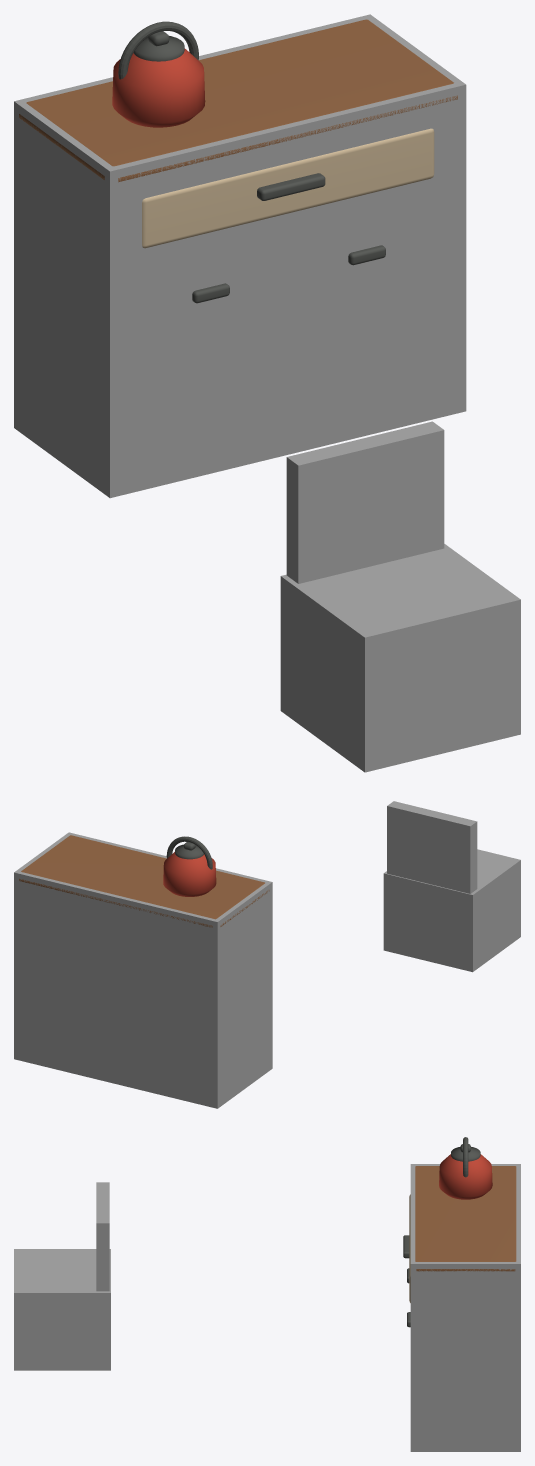
The model's file is paired-kitchen.glb.
The picture shows the model from 3 angles, top to bottom: view 1: azimuth 30°, elevation 25°; view 2: azimuth 150°, elevation 25°; view 3: azimuth 270°, elevation 25°; orthographic projection. The views are drawn at different scales.
Visible parts, largest first — view 1: COL_cupboard, COL_child_chair, Warm oak, COL_chair_back, Faded cream paint, Red enamel and repair paint, Dull cast iron; view 2: COL_cupboard, COL_child_chair, Warm oak, COL_chair_back, Red enamel and repair paint, Dull cast iron; view 3: COL_cupboard, COL_child_chair, Warm oak, Red enamel and repair paint, COL_chair_back, Dull cast iron.
Part boxes in pixels (box(x1,y1,x2,y2)): COL_cupboard: box(14, 14, 466, 498); COL_child_chair: box(280, 544, 520, 772); Warm oak: box(19, 19, 457, 182); COL_chair_back: box(286, 421, 444, 583); Faded cream paint: box(142, 128, 434, 248); Red enamel and repair paint: box(112, 48, 205, 127); Dull cast iron: box(118, 21, 385, 303); COL_cupboard: box(14, 832, 272, 1108); COL_child_chair: box(383, 849, 520, 972); Warm oak: box(19, 835, 269, 927); COL_chair_back: box(387, 801, 477, 893); Red enamel and repair paint: box(163, 852, 216, 896); Dull cast iron: box(166, 836, 212, 869); COL_cupboard: box(410, 1164, 520, 1451); COL_child_chair: box(14, 1249, 110, 1370); Warm oak: box(415, 1166, 516, 1271); Red enamel and repair paint: box(439, 1154, 492, 1199); COL_chair_back: box(96, 1182, 109, 1291); Dull cast iron: box(403, 1137, 480, 1327).
Bounding box in the file's own units: 1.32 × 1.17 × 2.25.
